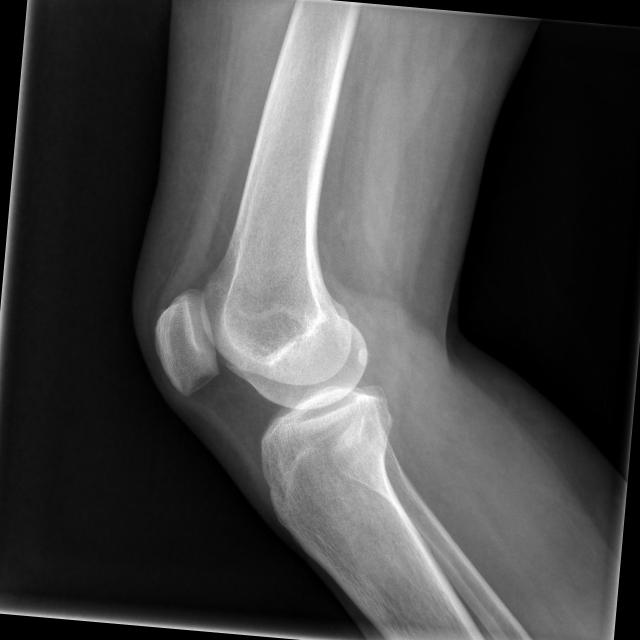Knee: (141, 278, 413, 506)
